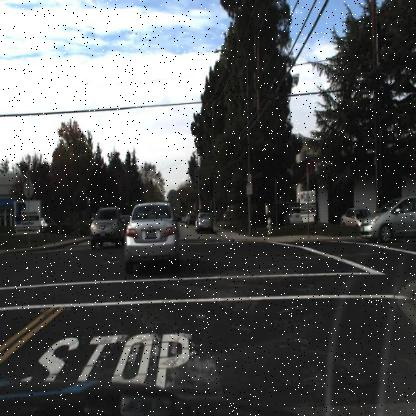car: (118, 198, 182, 284), (360, 184, 416, 257), (86, 195, 122, 254), (339, 195, 366, 241), (284, 196, 311, 231), (190, 205, 218, 237), (38, 209, 58, 238)
